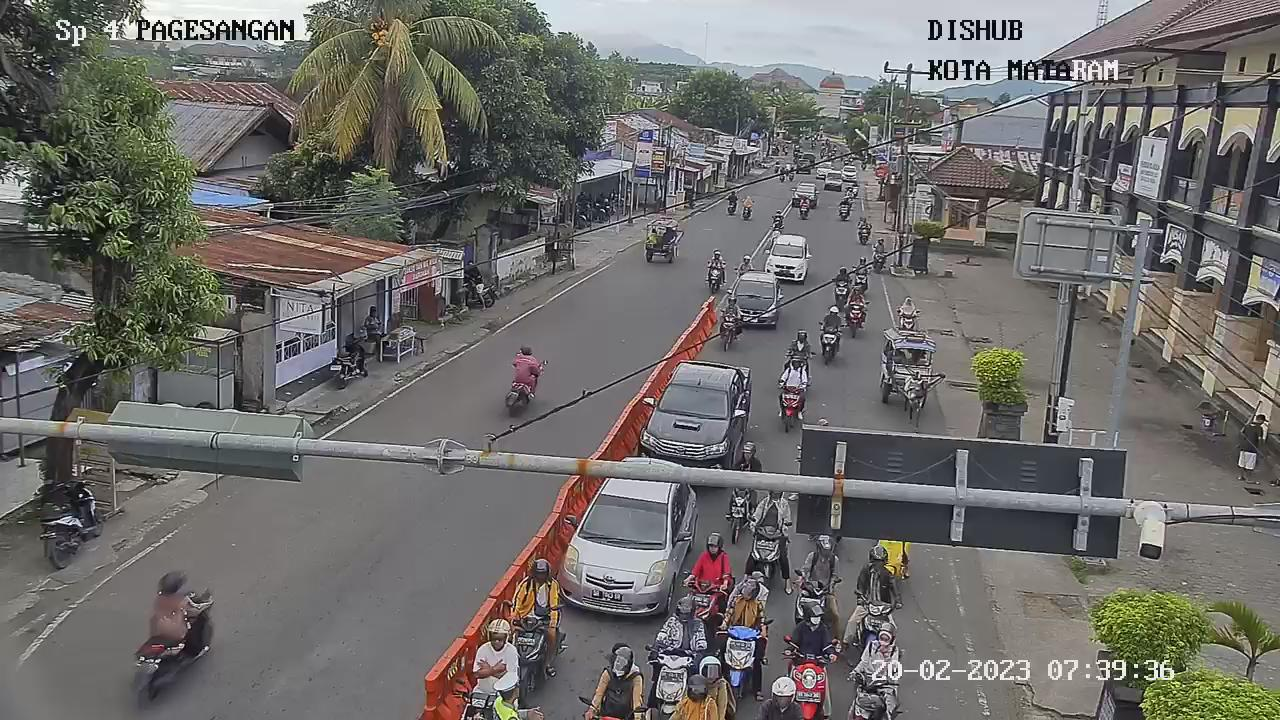car: (556, 452, 703, 612), (641, 362, 753, 467), (729, 269, 782, 329), (764, 231, 812, 281)
cidomo: (873, 324, 949, 426), (641, 215, 687, 267)
motorbike: (778, 638, 838, 720), (501, 608, 558, 691), (714, 621, 773, 692), (645, 645, 698, 716), (740, 521, 793, 590), (847, 587, 900, 652), (791, 565, 839, 624), (685, 571, 728, 626), (774, 380, 806, 433), (816, 325, 843, 365), (842, 301, 869, 339), (717, 310, 742, 351), (894, 311, 922, 335), (830, 279, 852, 309), (706, 264, 725, 294), (871, 247, 888, 275), (853, 267, 869, 293), (837, 203, 851, 225), (856, 225, 870, 246), (797, 202, 811, 221), (770, 214, 785, 231)
person: (131, 571, 216, 704), (586, 636, 648, 714), (471, 610, 523, 691), (505, 555, 565, 625), (786, 600, 838, 676), (654, 591, 705, 666), (679, 646, 729, 720), (848, 621, 899, 689), (721, 566, 767, 637), (854, 543, 903, 609), (686, 528, 734, 593), (796, 533, 841, 595), (748, 475, 796, 533), (505, 347, 544, 403), (775, 353, 810, 397), (784, 329, 816, 369), (736, 429, 765, 470), (717, 289, 746, 327), (818, 305, 844, 337), (845, 285, 869, 312), (831, 265, 854, 290), (897, 295, 918, 322), (852, 252, 871, 277), (708, 249, 726, 269), (870, 236, 887, 257), (737, 254, 756, 272), (856, 214, 872, 232), (724, 190, 740, 206), (741, 192, 755, 209), (799, 193, 810, 210), (838, 197, 850, 212), (772, 206, 785, 219)
